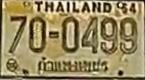0: (61, 16, 78, 52), (28, 16, 45, 52)
4: (81, 15, 98, 52)
7: (8, 15, 26, 53)
9: (119, 16, 137, 54), (100, 16, 117, 54)
KPT: (35, 55, 111, 75)
